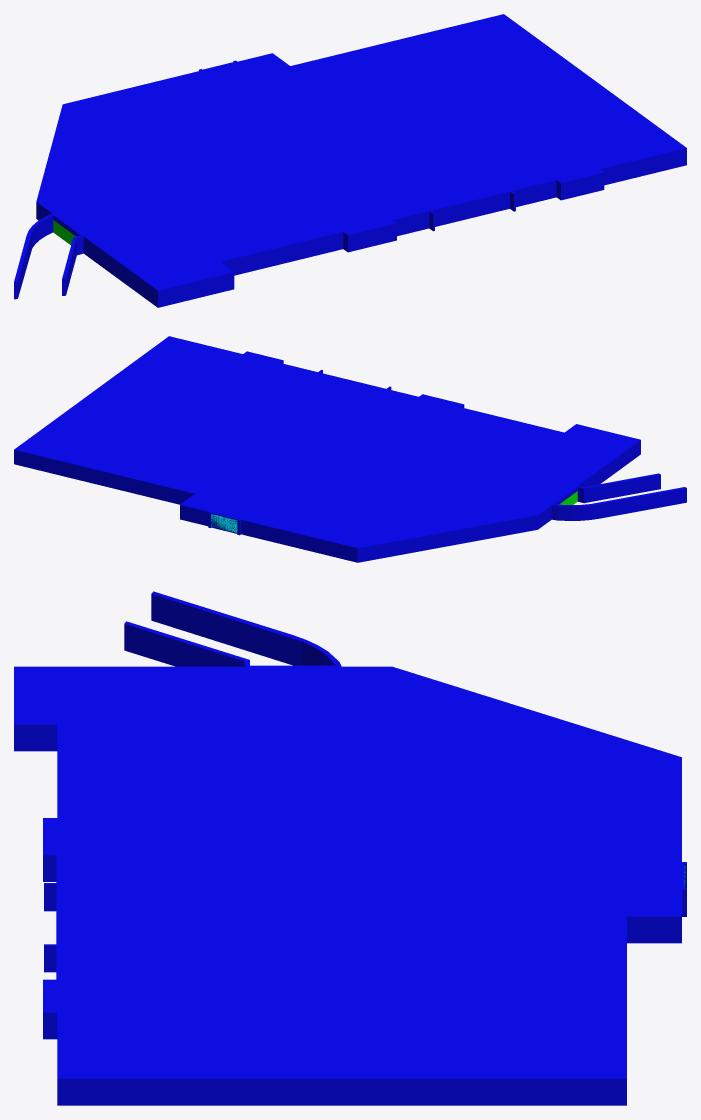
3 views of the same model, one above another, from view 1: azimuth 30°, elevation 25°; view 2: azimuth 150°, elevation 25°; view 3: azimuth 270°, elevation 25° (orthographic). The views are drawn at different scales.
Visible parts, largest first — view 1: group_out_solid_mesh; view 2: group_out_solid_mesh; view 3: group_out_solid_mesh.
Part boxes in pixels (box(x1,y1,x2,y2)): group_out_solid_mesh: box(14, 14, 686, 307); group_out_solid_mesh: box(14, 336, 686, 562); group_out_solid_mesh: box(14, 591, 686, 1105).
Bounding box in the file's own units: 116953 × 3000 × 68249.
